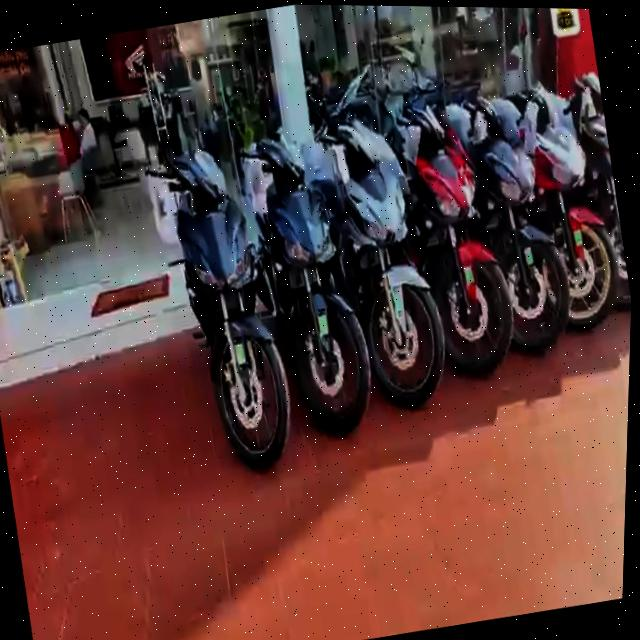motorcycle: (131, 129, 311, 478), (225, 121, 390, 453), (311, 106, 468, 419), (387, 99, 526, 388), (455, 93, 588, 369), (519, 91, 631, 336)
